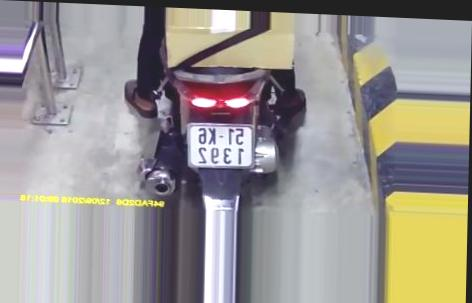License_Plate: (186, 116, 258, 174)
